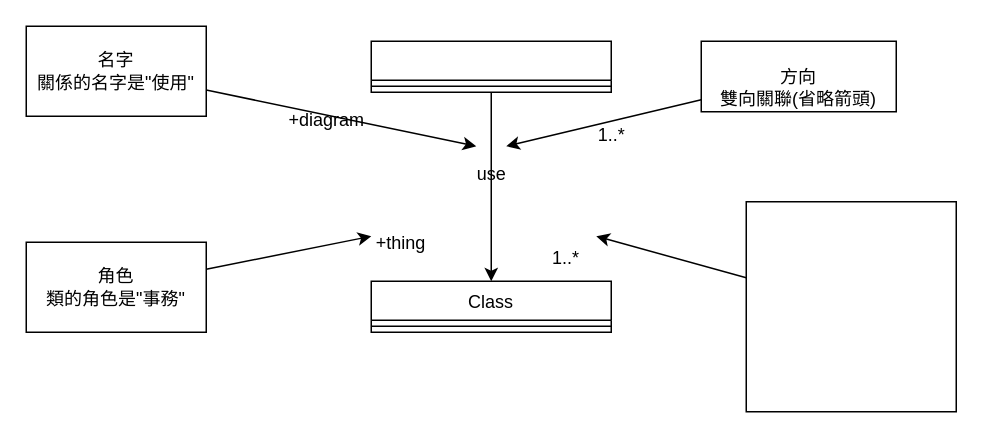
This 983x438 diagram has some shape labels left out. Here are the shapes that lost their labels. From the top down, the centre of each, then its label:
At point (490, 66): "classDiagrm".
At point (850, 306): "多重性 (用數字和*表示) 1...*:1個或多個 1個類圖有1個或多個類 1個類屬於1個或多個類圖".
